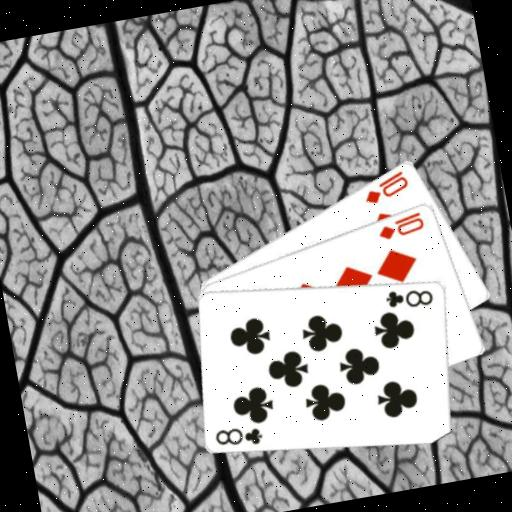10D: (358, 166, 413, 206), (372, 207, 427, 242)
8C: (381, 280, 436, 313), (211, 420, 266, 453)
